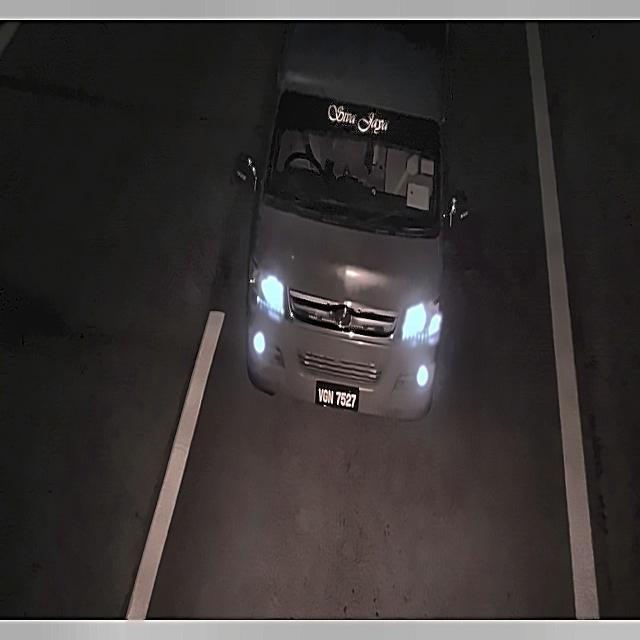car: (311, 378, 362, 419)
